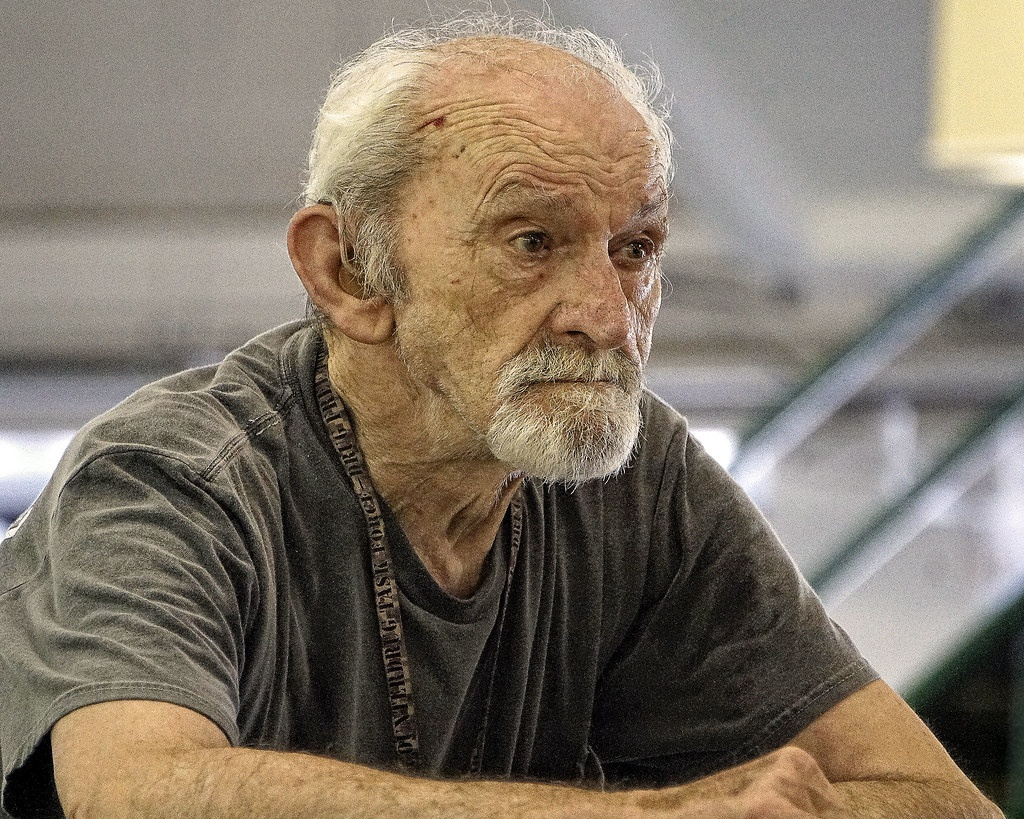without_mask: (297, 63, 696, 475)
